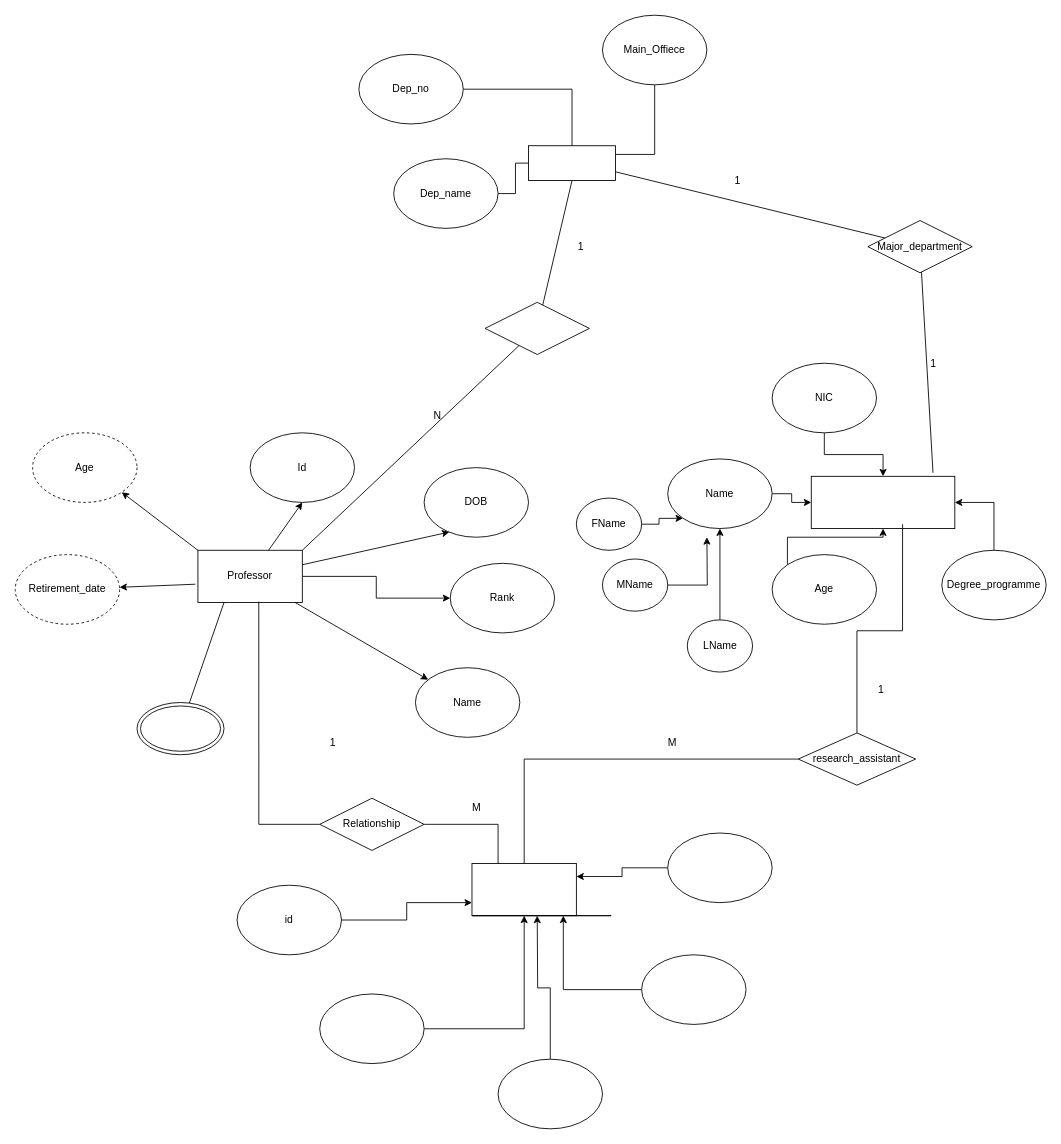
Image size: 1061x1144. Some labels were removed from this diagram. Here are the shapes that lost their labels. From the top down, the centre of each, then its label:
point (572, 163): Department
point (536, 328): Wroks_on
point (882, 502): Undergraduate_student
point (180, 728): Speciality
point (523, 889): Project
